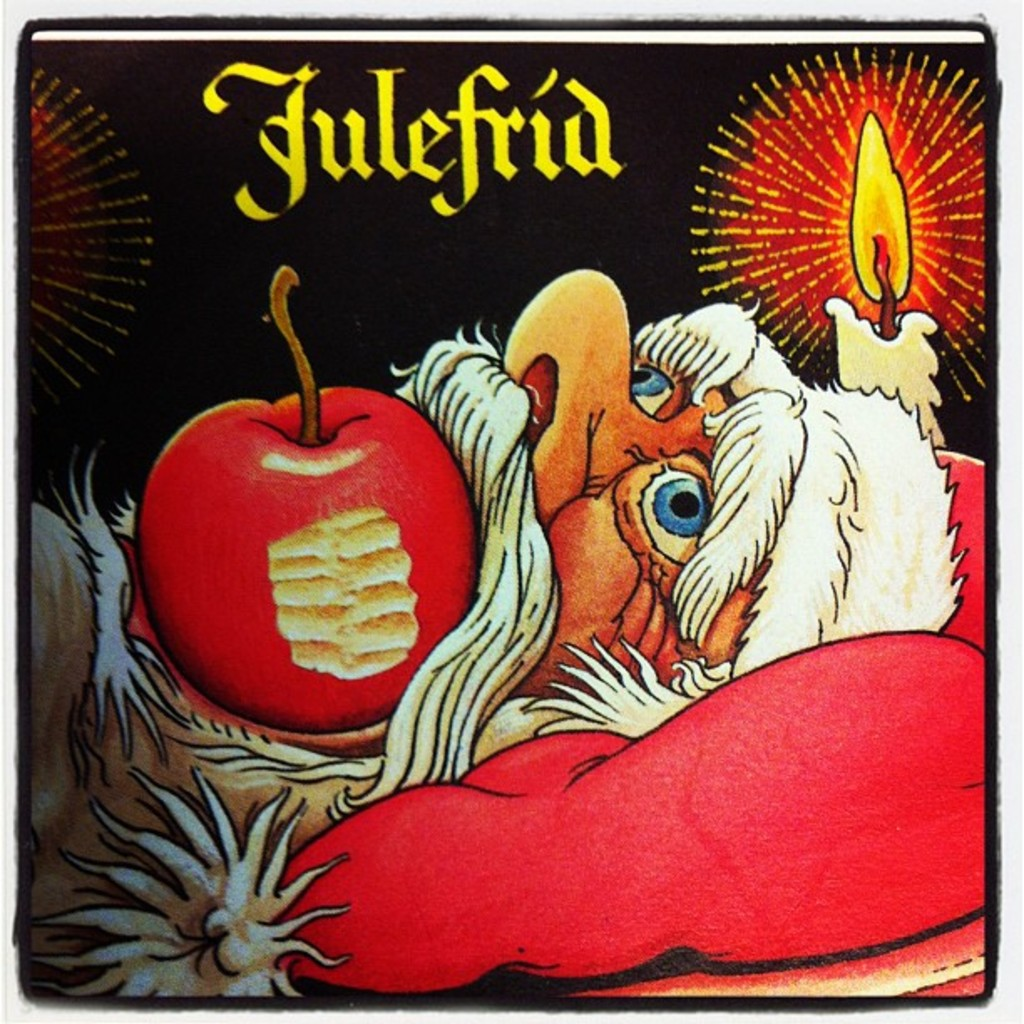Apple: (153, 321, 491, 726)
